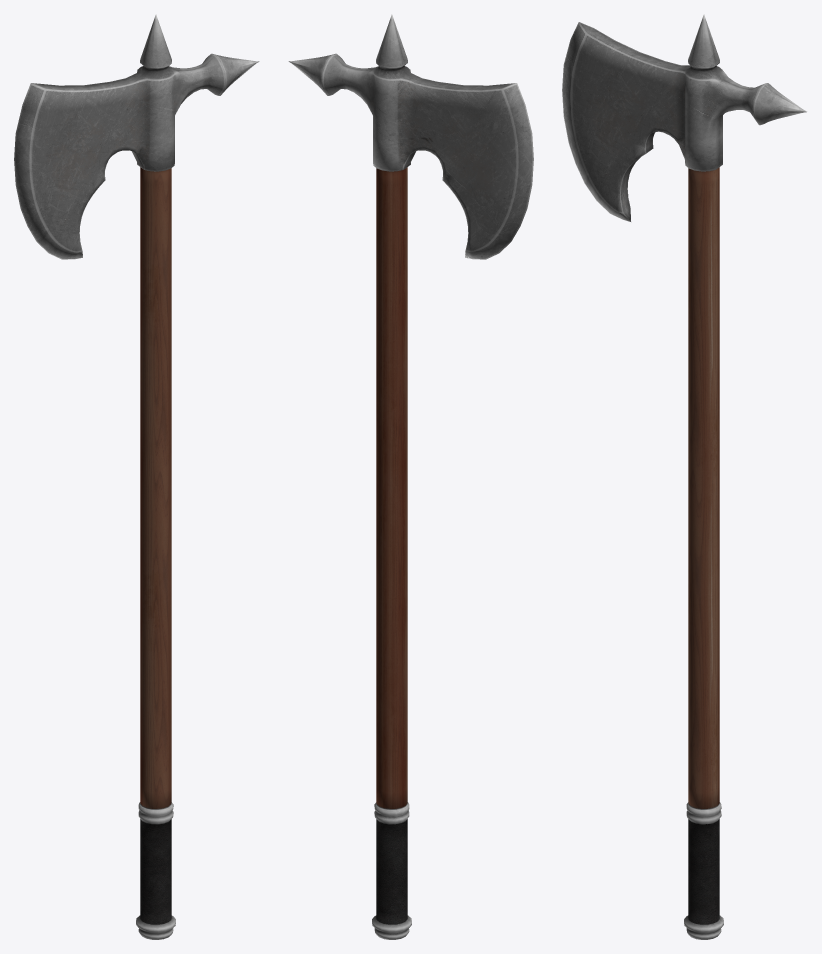
The model's file is SM_Axe_06.fbx.
The picture shows the model from 3 angles, left to right: view 1: azimuth 30°, elevation 25°; view 2: azimuth 150°, elevation 25°; view 3: azimuth 330°, elevation 25°; orthographic projection.
Parts seen in each view (by area): view 1: SM_Axe_06_LOD0; view 2: SM_Axe_06_LOD0; view 3: SM_Axe_06_LOD0.
Part boxes in pixels (left/top/right/bottom): SM_Axe_06_LOD0: left=14, top=14, right=259, bottom=939; SM_Axe_06_LOD0: left=288, top=14, right=533, bottom=939; SM_Axe_06_LOD0: left=562, top=14, right=806, bottom=939.
Size of the model in its own units: 30.58 by 4.45 by 110.
Materials: 1 (1 with a texture image).
